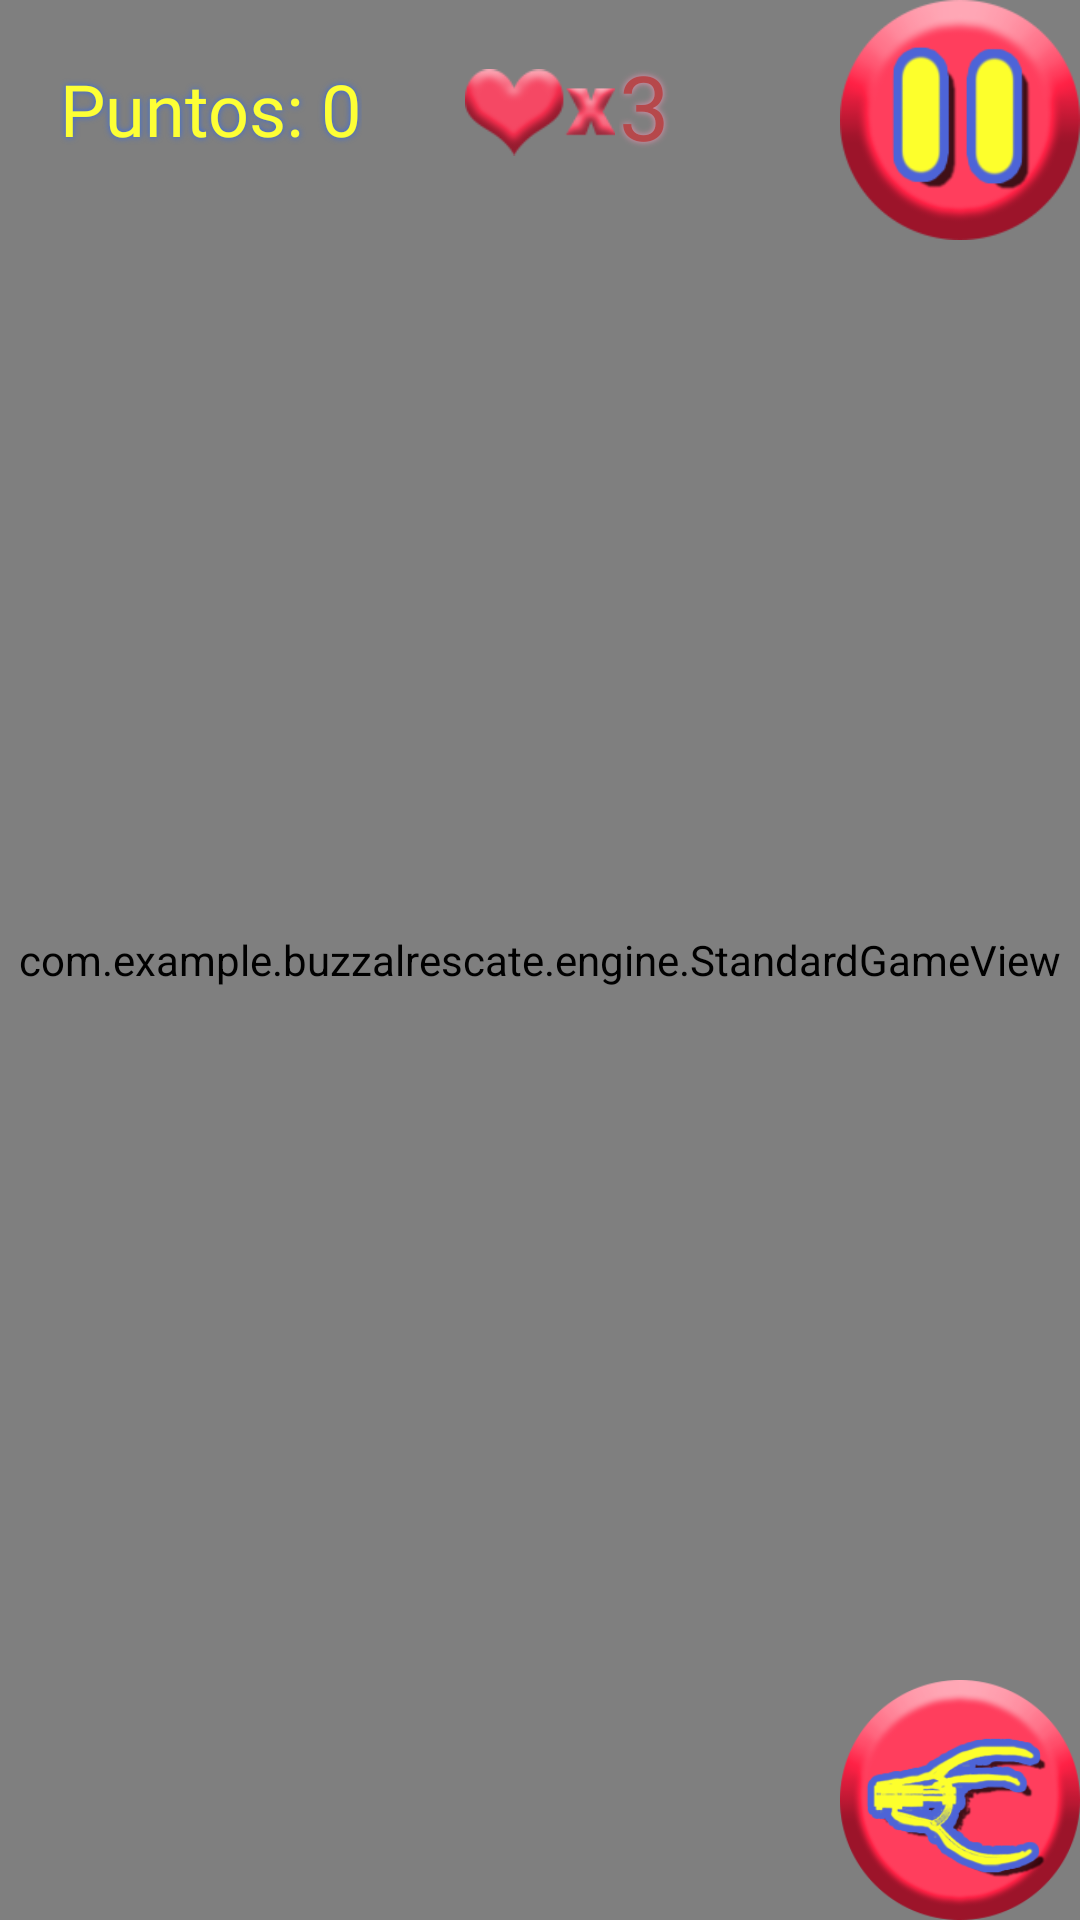

Icon bounding boxes for this 1080×1920 phone screenshot, format (x1, y1, x2, y2):
bot npausa: (840, 0, 1080, 240)
botondisparo: (840, 1680, 1080, 1920)
contvidas: (465, 69, 615, 156)
